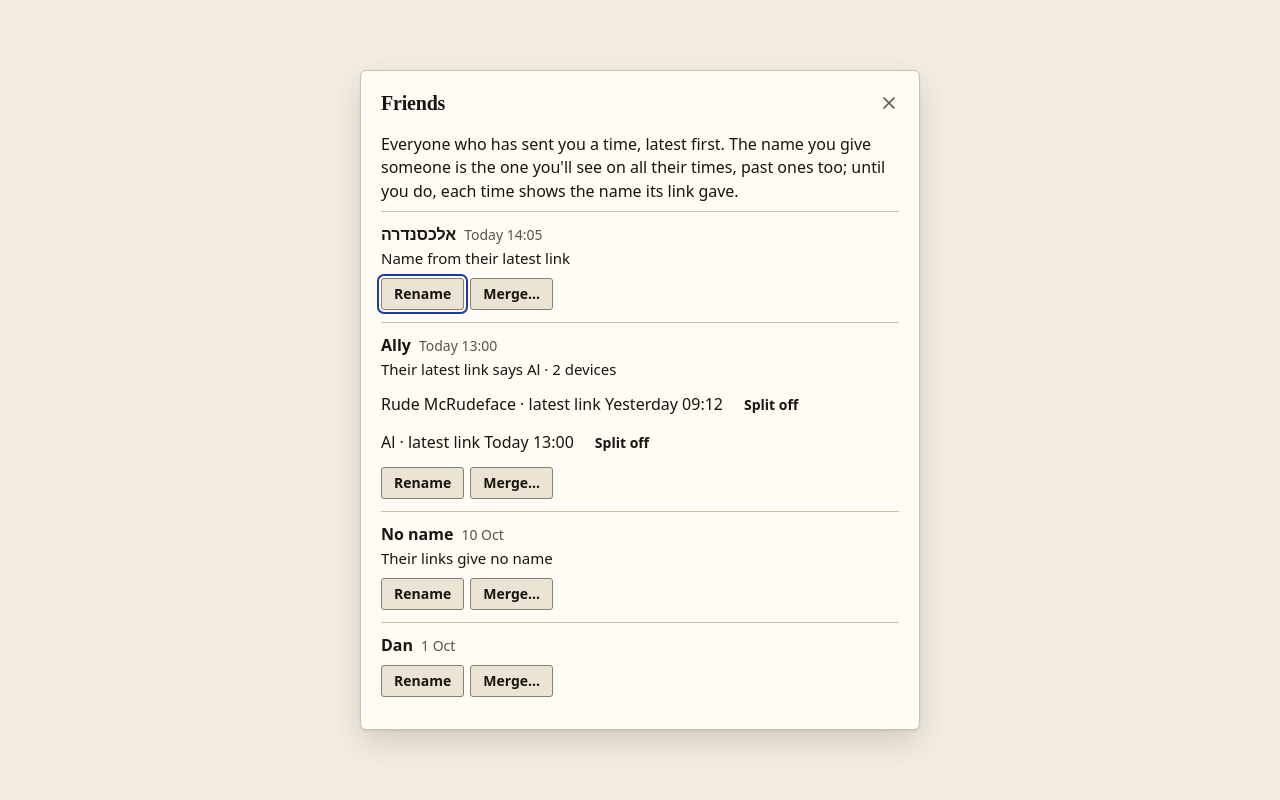
Scenario: FriendsDialog › renaming › opens in place of Rename, the name it goes by now focused and selected
Click the button "Rename" below "Ally".
click(423, 483)  # box [381,467,464,499]
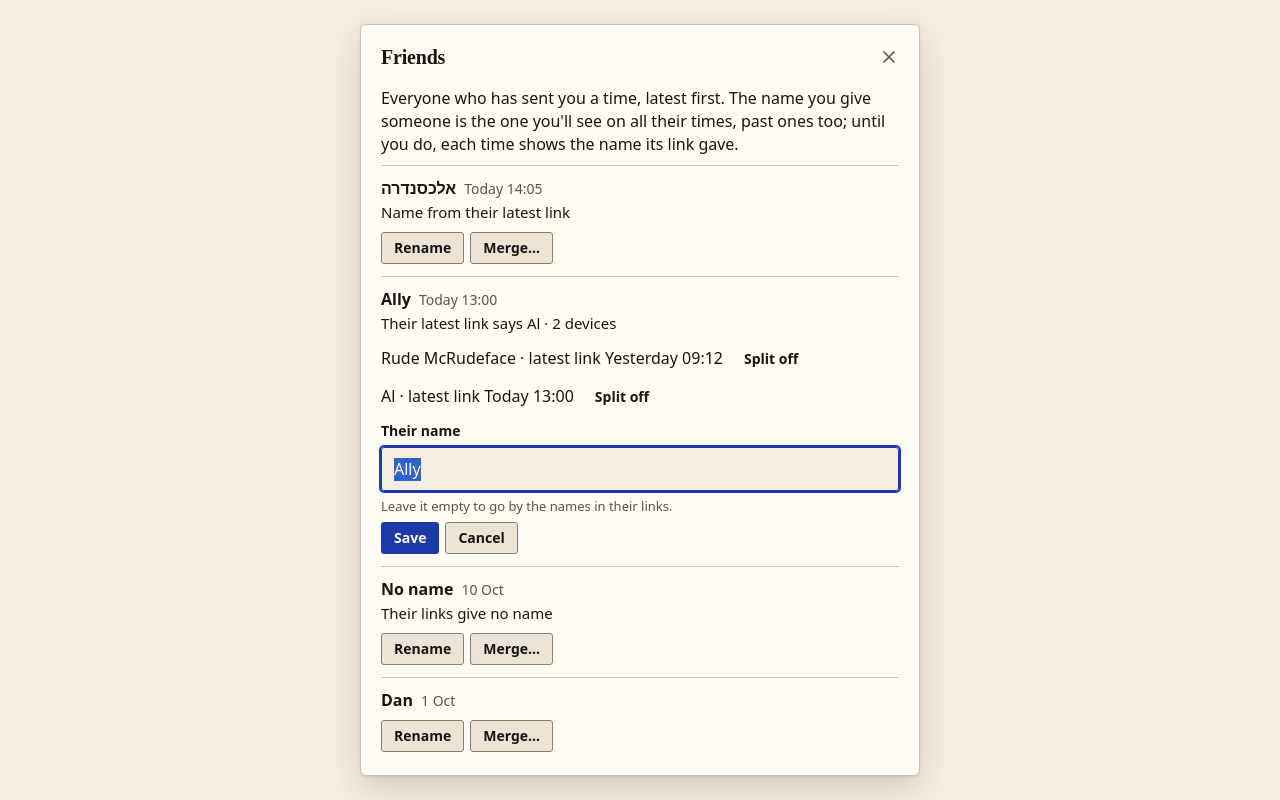
Now the field labelled "Their name" holds "Ally", box [381,447,899,491]
Now the button with aria-label "Save name, Ally, latest link Today 13:00" is shown, box [381,522,439,554]
Now the button with aria-label "Cancel renaming Ally, latest link Today 13:00" is shown, box [445,522,518,554]
